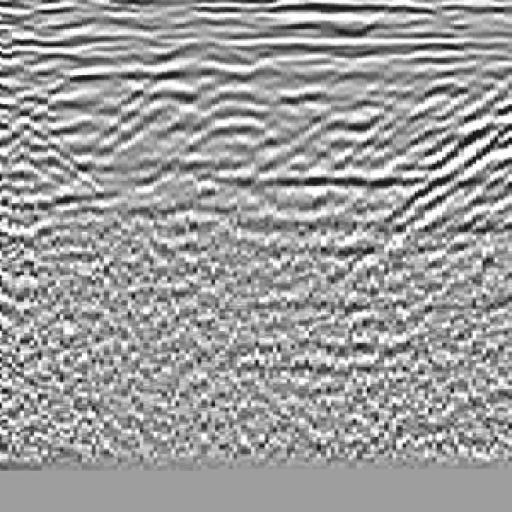metalic: (124, 44, 313, 268)
nonmetalic: (372, 66, 512, 286)
